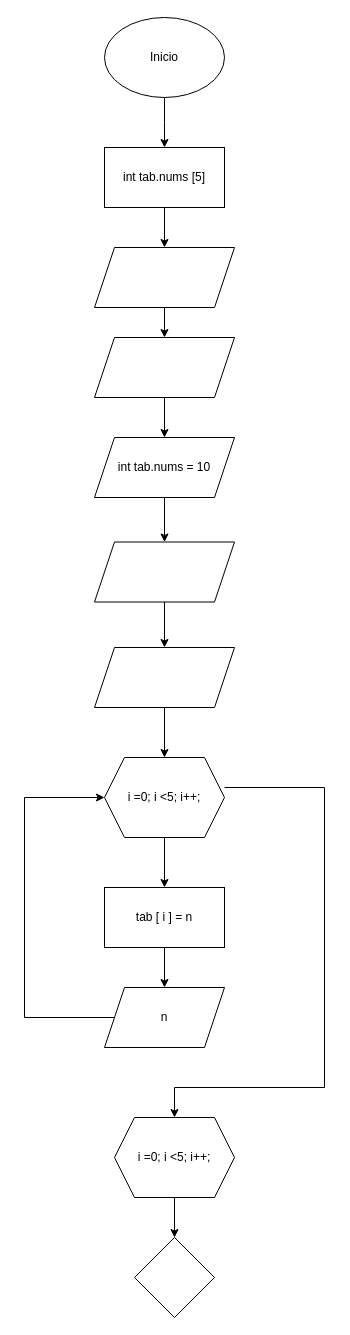
Some shapes in this 350 by 1335 pixel diagram are drawn without their labels. Here are the shapes that lost their labels. From the top down, the box of each, then its label:
(94, 246, 234, 308): int tab.nums = 42
(94, 336, 234, 398): int tab.nums = 105
(94, 541, 234, 602): int tab.nums = 50
(94, 646, 234, 708): int tab.nums = 01
